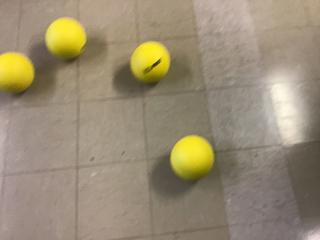power_cell: (168, 132, 218, 184), (43, 15, 90, 62), (129, 39, 174, 88), (1, 50, 37, 98)
